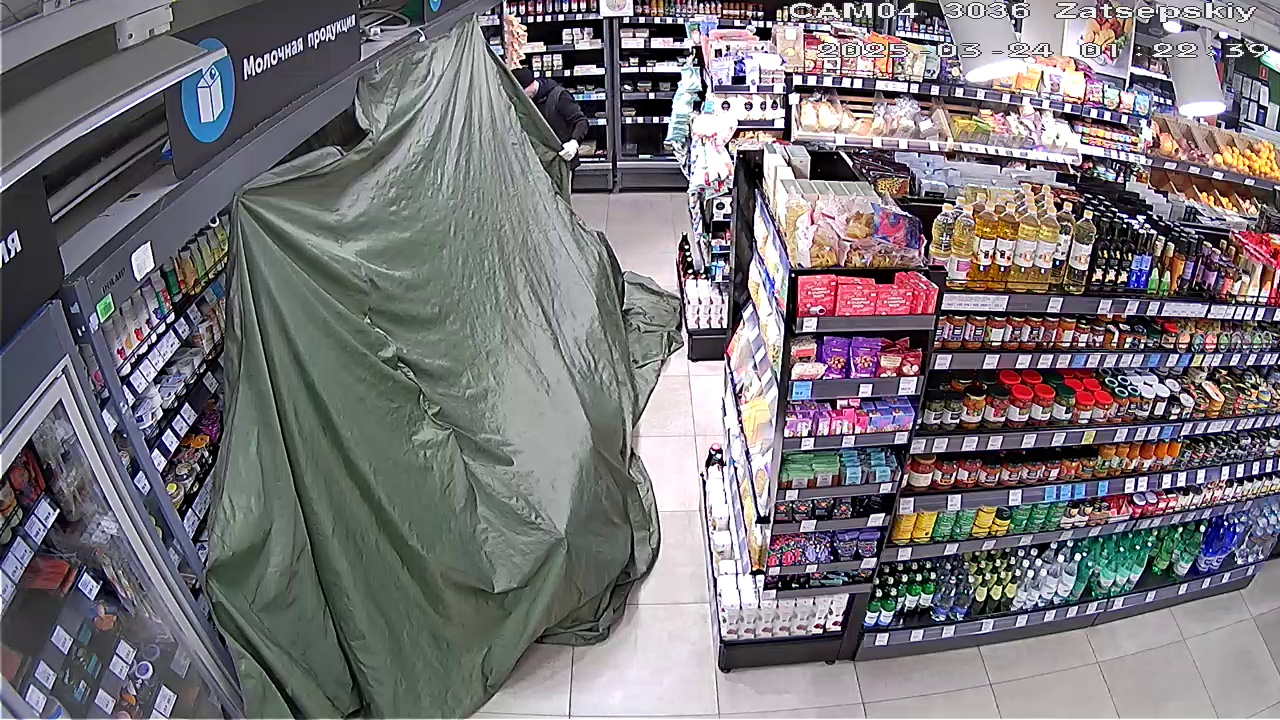Human: (506, 57, 595, 165)
dome: (185, 27, 681, 719)
